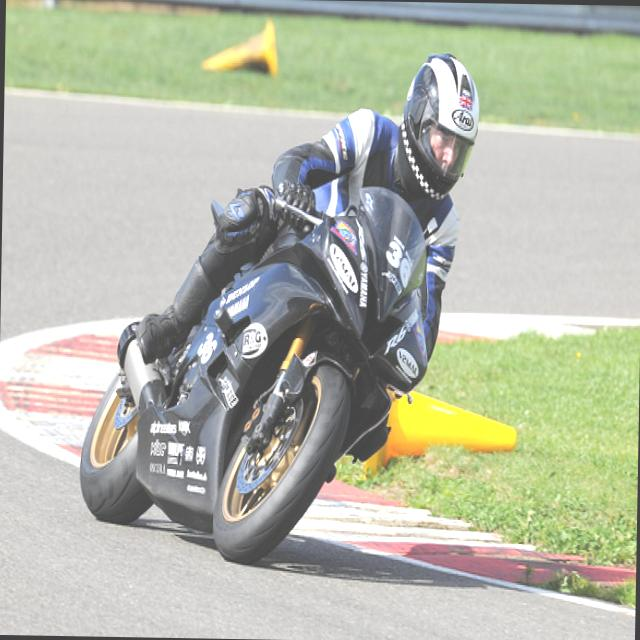Vehicle: (58, 174, 434, 570)
